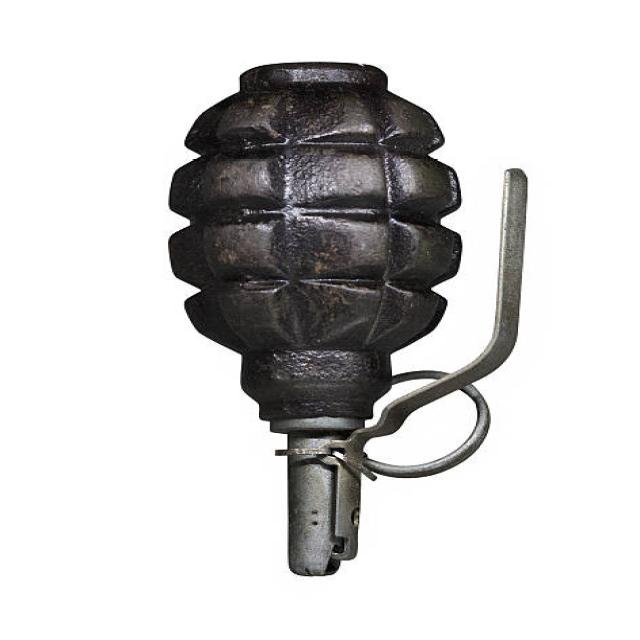grenade: (155, 50, 540, 587)
